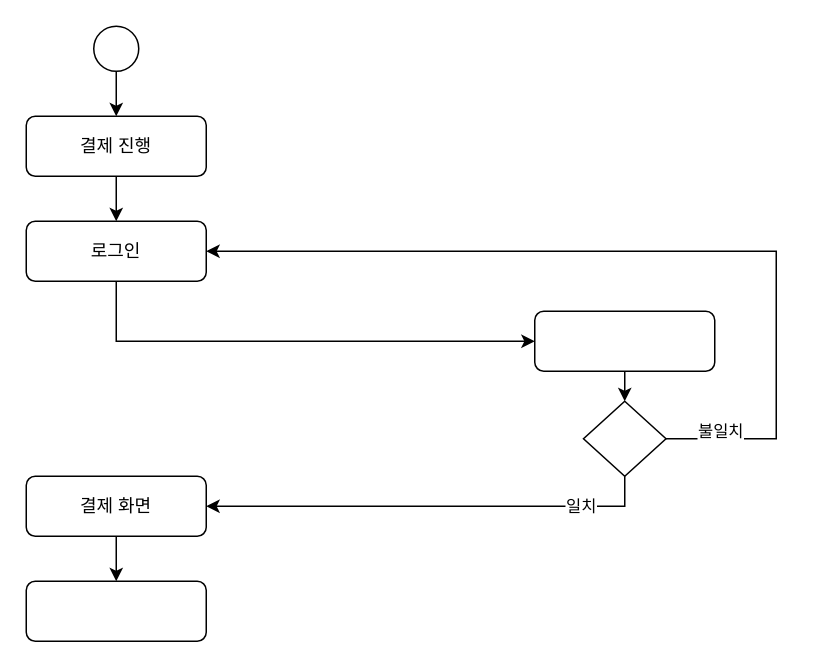
Image size: 815x668. Some labels were removed from this diagram. Here are the shapes that lost their labels. From the top down, the centre of each, then its label:
the point at 624,340: 회원 정보 DB 접근
the point at 115,610: 결제 수단 선택
